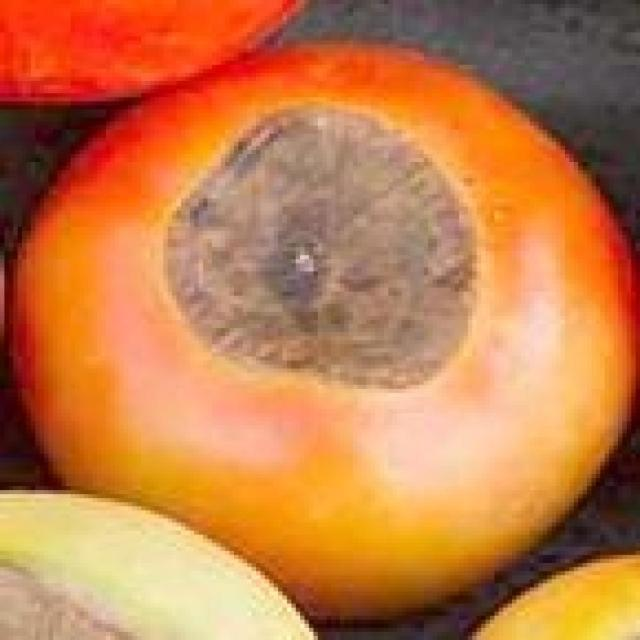Blossom End Rot Fruit: (49, 57, 212, 396)
